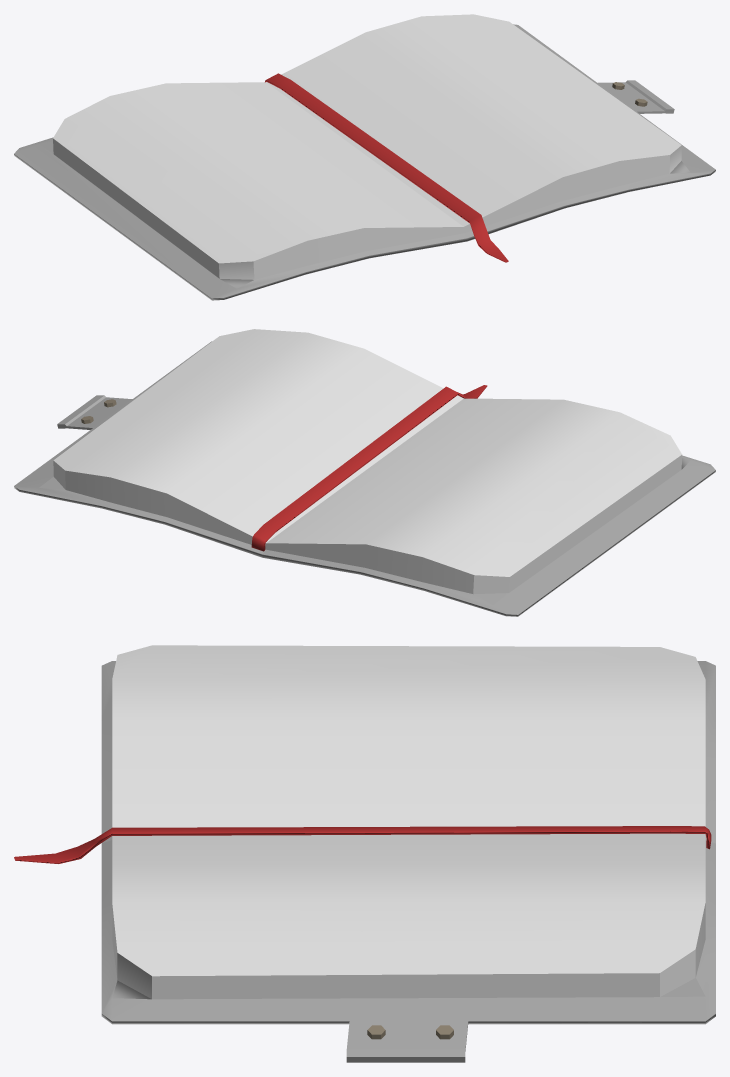
The model's file is Mesh_Journal.fbx.
3 renders of one model, top to bottom at view 1: azimuth 30°, elevation 25°; view 2: azimuth 150°, elevation 25°; view 3: azimuth 270°, elevation 25°, orthographic. The views are drawn at different scales.
Parts seen in each view (by area): view 1: Journal; view 2: Journal; view 3: Journal.
Part boxes in pixels (x1,y1,x2,y2): Journal: (14,14,715,300); Journal: (14,329,715,616); Journal: (14,645,715,1062).
Bounding box in the file's own units: 15.64 × 1.17 × 11.71.
